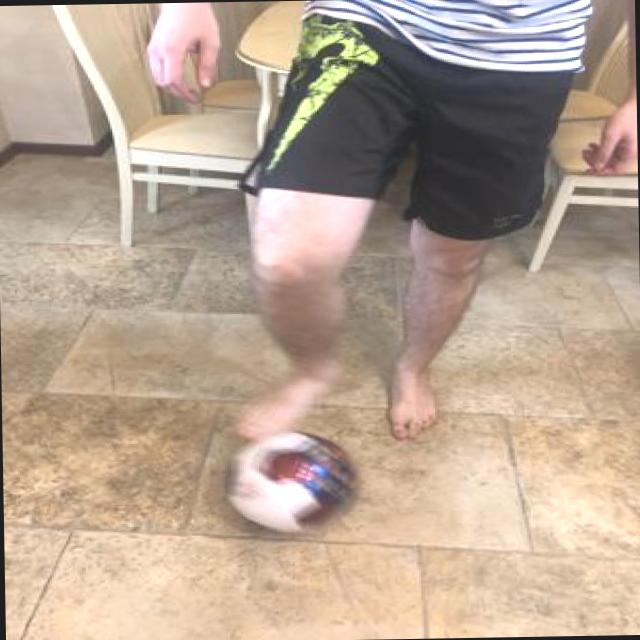Soccer Ball: (218, 425, 360, 534)
